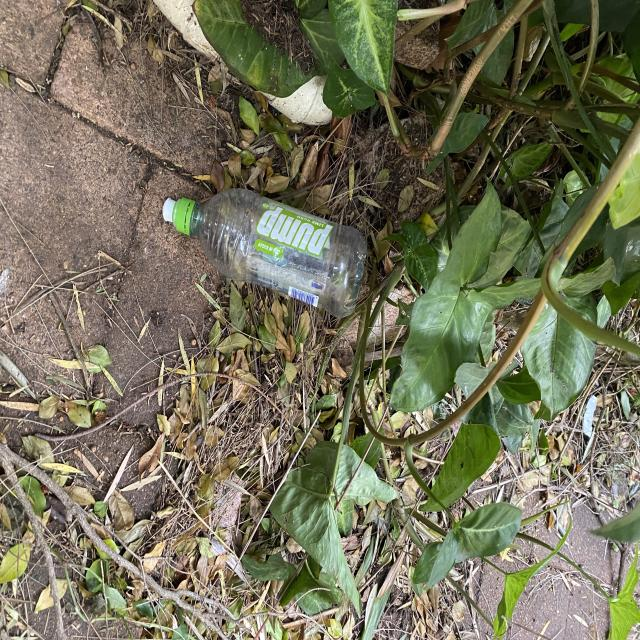bottle: (160, 186, 367, 318)
